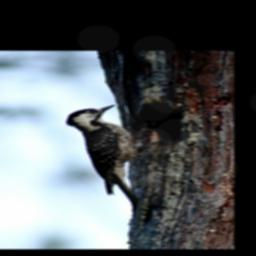Woodpecker: (64, 103, 169, 206)
